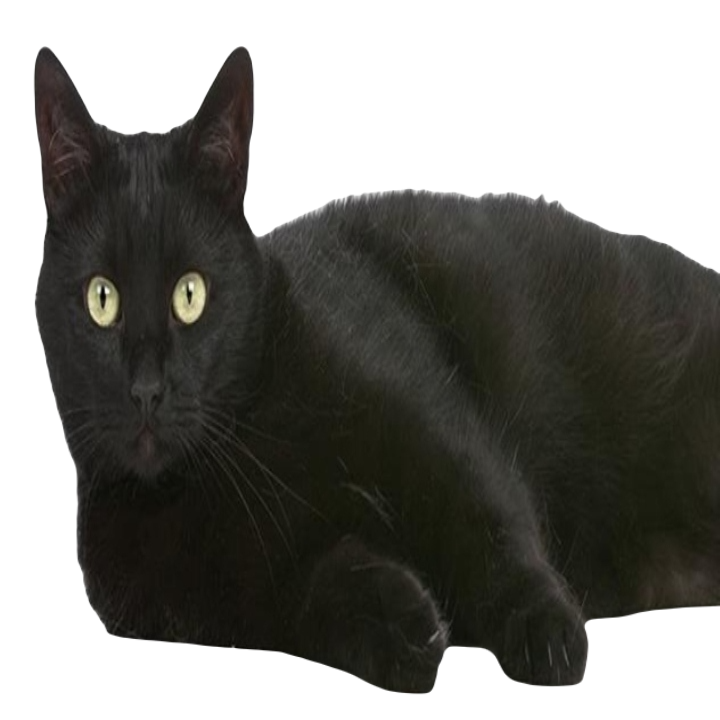Cat: (16, 33, 719, 698)
